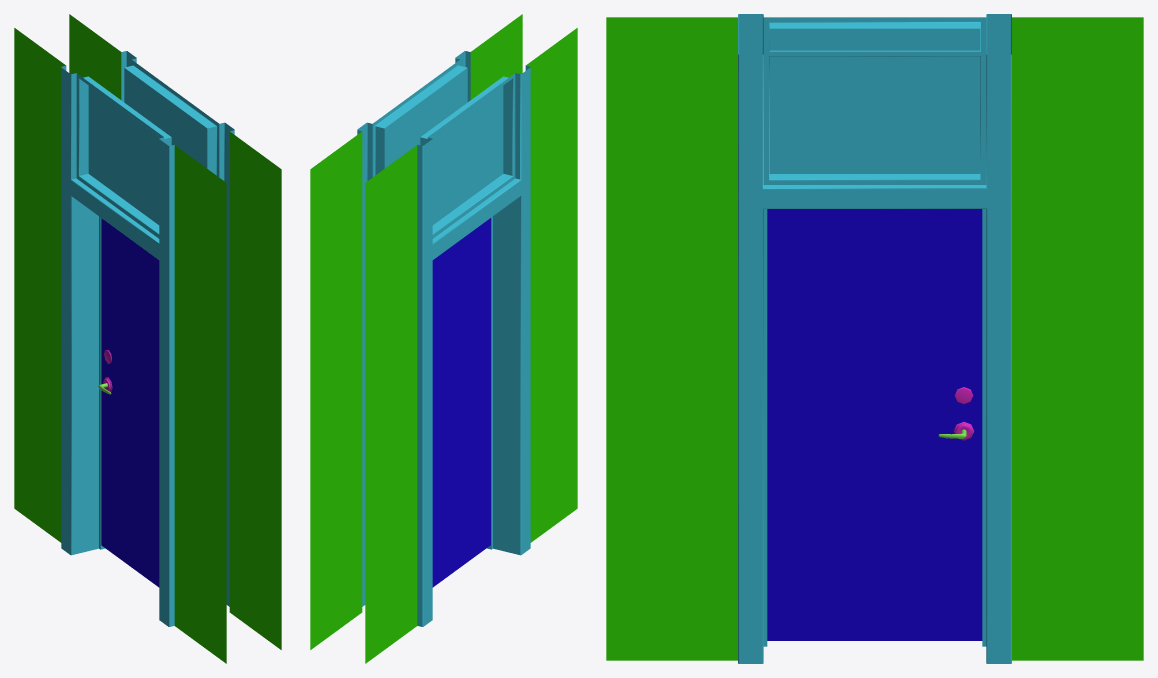
The model's file is Paintedbrickwalldoor.fbx.
The picture shows the model from 3 angles, left to right: view 1: azimuth 30°, elevation 25°; view 2: azimuth 150°, elevation 25°; view 3: azimuth 270°, elevation 25°; orthographic projection. The views are drawn at different scales.
Visible parts, largest first — view 1: Cube.048, Cube.044; view 2: Cube.048, Cube.044; view 3: Cube.048, Cube.044.
Boxes of the visible parts, bbox=[...] form: Cube.048: bbox=[14, 14, 281, 663]; Cube.044: bbox=[101, 218, 159, 587]; Cube.048: bbox=[310, 14, 577, 663]; Cube.044: bbox=[432, 218, 490, 587]; Cube.048: bbox=[606, 14, 1143, 663]; Cube.044: bbox=[767, 209, 982, 640].
Size of the model in its own units: 36.02 by 250 by 200.
